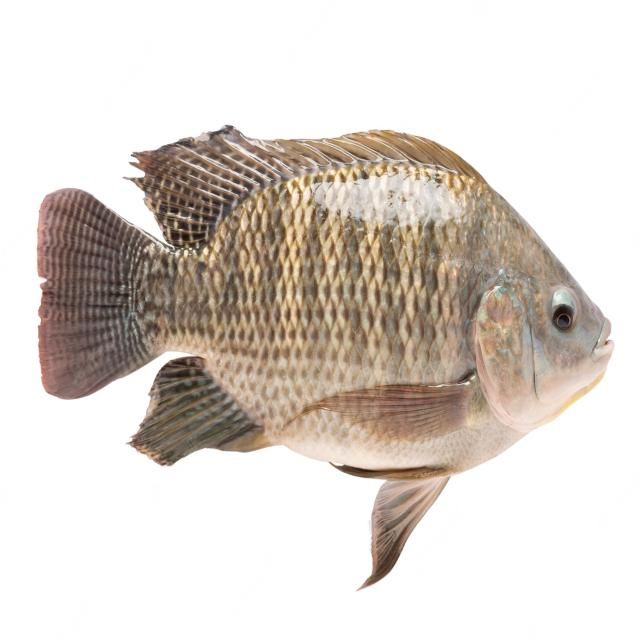ikan: (23, 94, 622, 595)
